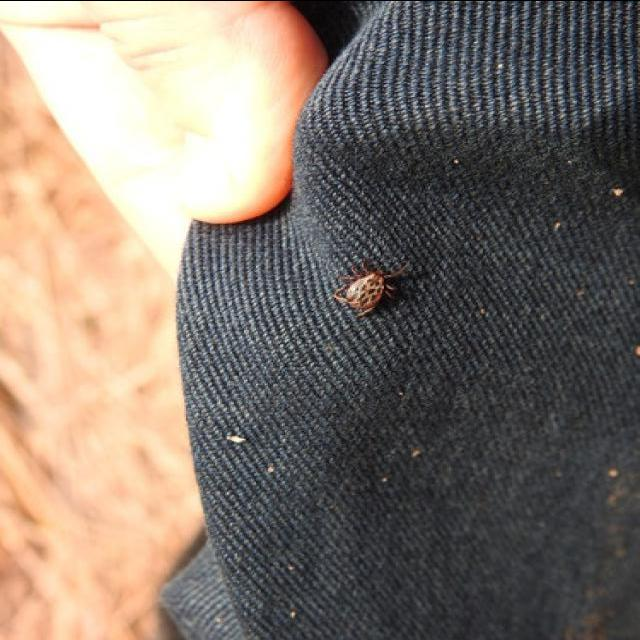Dermacentor Reticulatus-M: (335, 259, 413, 319)
